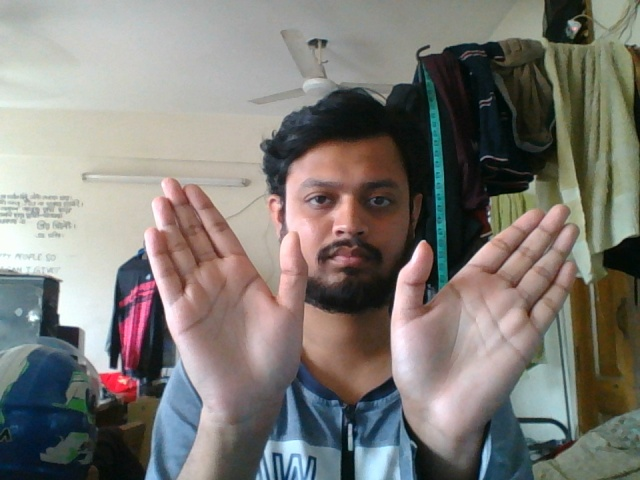naa: (126, 171, 589, 452)
